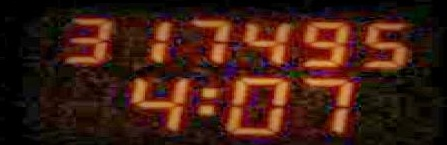0: (222, 75, 287, 134)
1: (143, 18, 172, 62)
3: (60, 15, 113, 64)
4: (122, 76, 189, 132), (238, 20, 294, 63)
5: (358, 19, 407, 68)
7: (298, 74, 358, 135), (187, 15, 231, 63)
9: (298, 19, 349, 68)
X: (194, 85, 218, 114)
